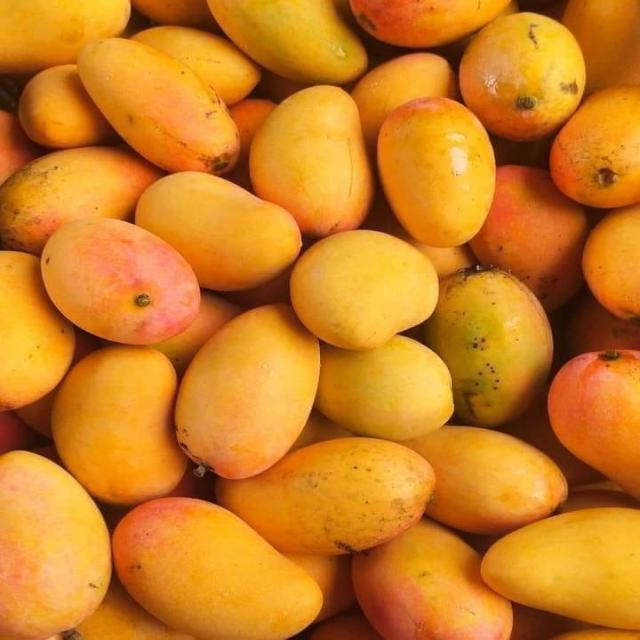mango: (113, 498, 321, 639), (216, 438, 434, 555), (176, 305, 319, 478), (78, 39, 239, 174), (52, 345, 187, 505), (0, 451, 111, 637), (425, 269, 552, 426), (41, 219, 199, 344), (136, 172, 301, 290), (481, 508, 639, 630), (352, 520, 511, 639), (250, 86, 373, 236), (403, 426, 567, 535), (290, 230, 438, 350), (378, 98, 495, 247), (470, 166, 589, 311), (0, 147, 161, 254), (460, 13, 584, 140), (316, 336, 453, 440), (208, 0, 367, 84), (549, 351, 639, 499), (0, 251, 74, 411), (550, 87, 639, 208), (352, 52, 458, 152), (131, 26, 260, 105), (501, 386, 601, 486), (363, 192, 478, 278), (0, 0, 130, 73), (19, 64, 113, 147), (152, 291, 240, 378), (69, 578, 194, 639), (351, 0, 509, 48), (562, 0, 639, 93), (583, 203, 639, 322), (562, 294, 639, 357), (285, 554, 355, 622), (226, 99, 276, 191), (406, 234, 477, 278), (225, 265, 293, 309), (0, 110, 39, 184), (510, 604, 583, 639), (132, 0, 218, 29), (290, 412, 353, 450), (16, 384, 59, 438), (490, 136, 552, 169), (259, 69, 313, 103), (310, 614, 383, 639), (561, 489, 639, 512), (433, 30, 479, 66), (0, 412, 37, 454), (552, 628, 639, 639), (32, 444, 63, 466)
